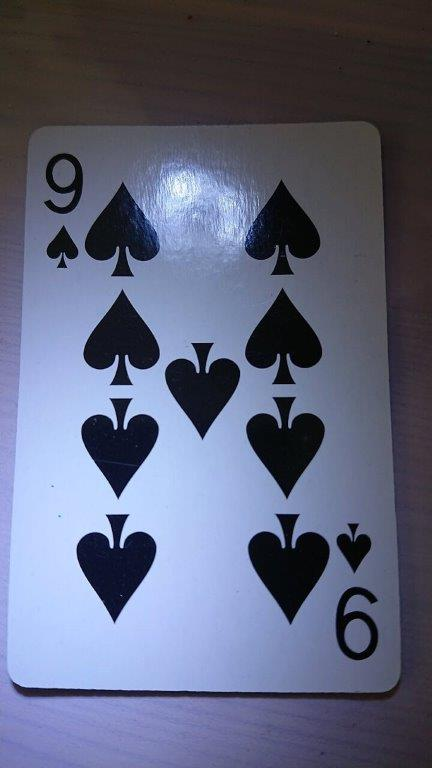9S: (5, 118, 404, 696)
